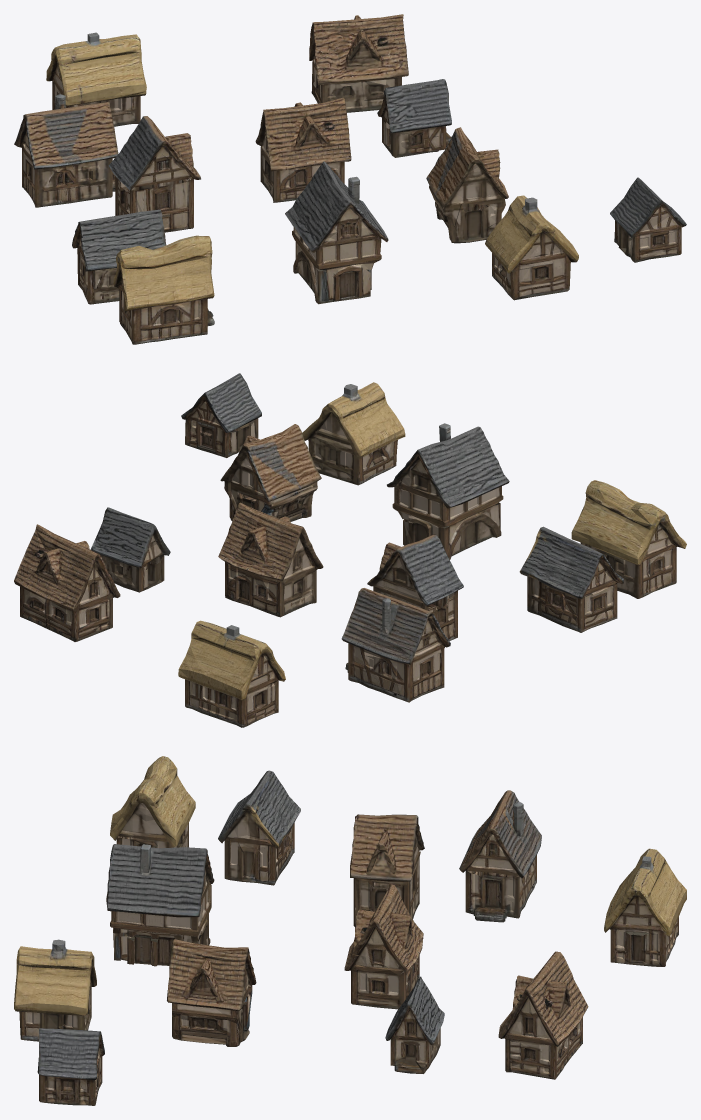
The model's file is Casas baja calidad.glb.
The picture shows the model from 3 angles, top to bottom: view 1: azimuth 30°, elevation 25°; view 2: azimuth 150°, elevation 25°; view 3: azimuth 270°, elevation 25°; orthographic projection. The views are drawn at different scales.
Visible parts, largest first — view 1: tripo_node_c83dee73-546c-41de-b09f-df5eb9a3418d; view 2: tripo_node_c83dee73-546c-41de-b09f-df5eb9a3418d; view 3: tripo_node_c83dee73-546c-41de-b09f-df5eb9a3418d.
Part boxes in pixels (x1,y1,x2,y2): tripo_node_c83dee73-546c-41de-b09f-df5eb9a3418d: (14,14,686,344); tripo_node_c83dee73-546c-41de-b09f-df5eb9a3418d: (14,373,686,727); tripo_node_c83dee73-546c-41de-b09f-df5eb9a3418d: (14,756,686,1105).
Size of the model in its own units: 26.5 by 5.19 by 27.9.
1 material, 1 textured.
